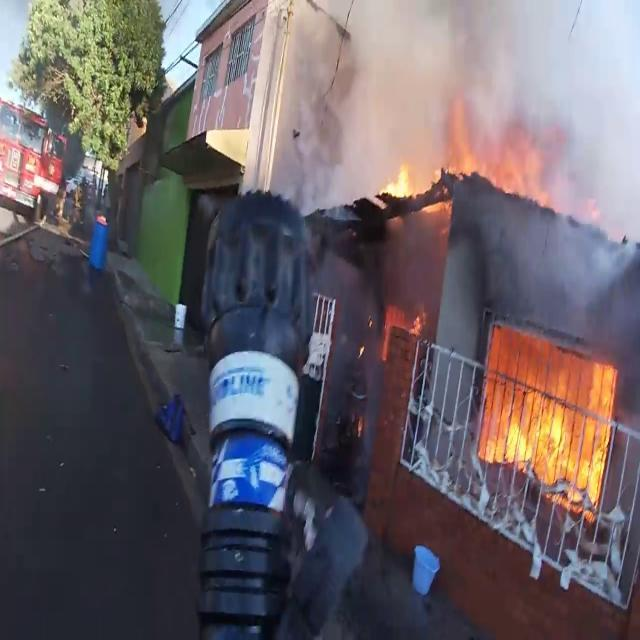Fire: (478, 317, 620, 510), (378, 106, 554, 210)
Smoke: (338, 0, 608, 204)
